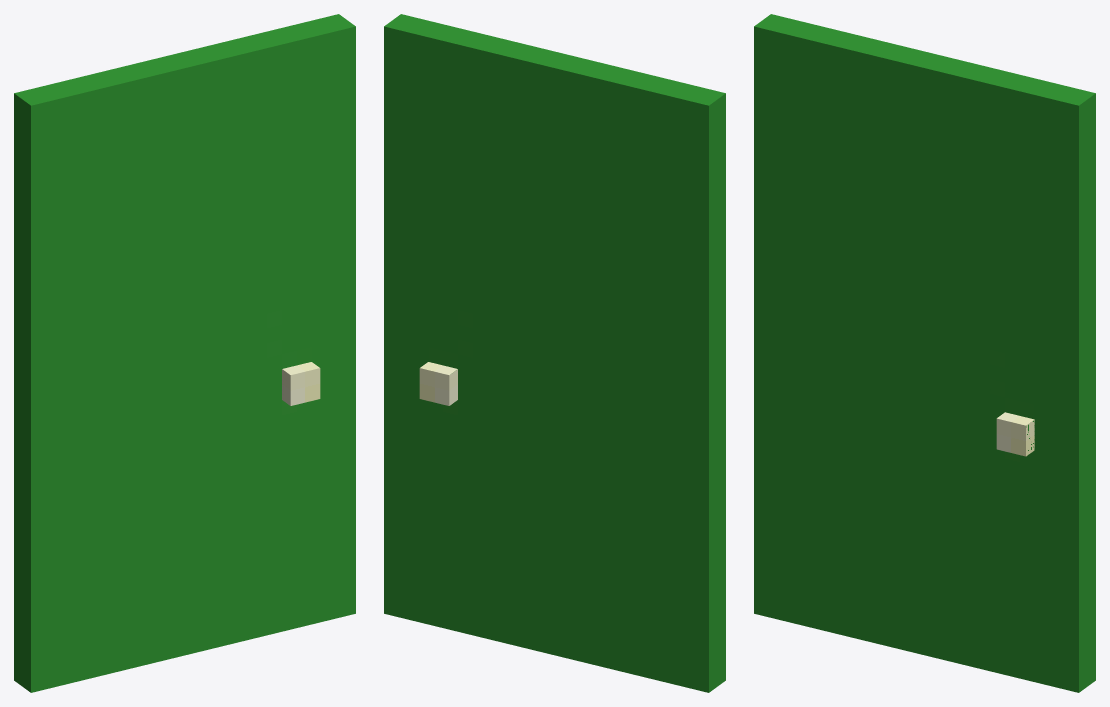
The model's file is door.fbx.
3 renders of one model, left to right at view 1: azimuth 30°, elevation 25°; view 2: azimuth 150°, elevation 25°; view 3: azimuth 330°, elevation 25°, orthographic.
Visible parts, largest first — view 1: Door; view 2: Door; view 3: Door.
Part boxes in pixels (box(x1,y1,x2,y2)): Door: box(14, 14, 355, 692); Door: box(384, 14, 725, 692); Door: box(754, 14, 1095, 692).
Size of the model in its own units: 1.38 by 0.25 by 2.38.
Materials: 1 (1 with a texture image).
